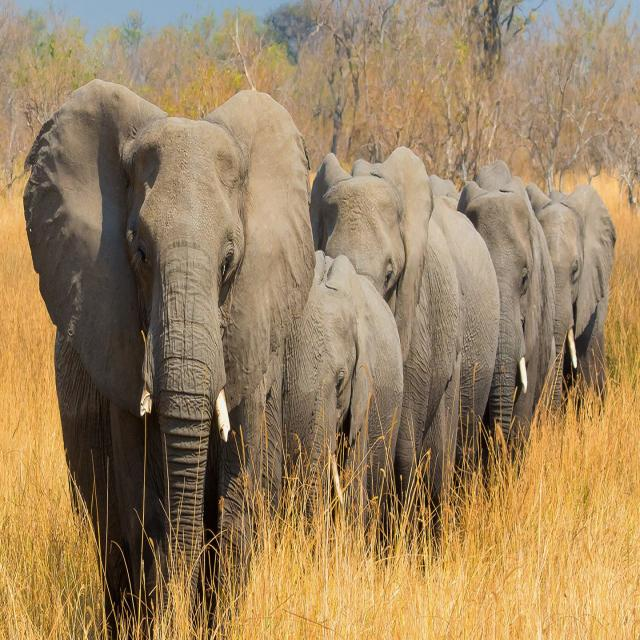Elephant: (22, 77, 316, 638)
